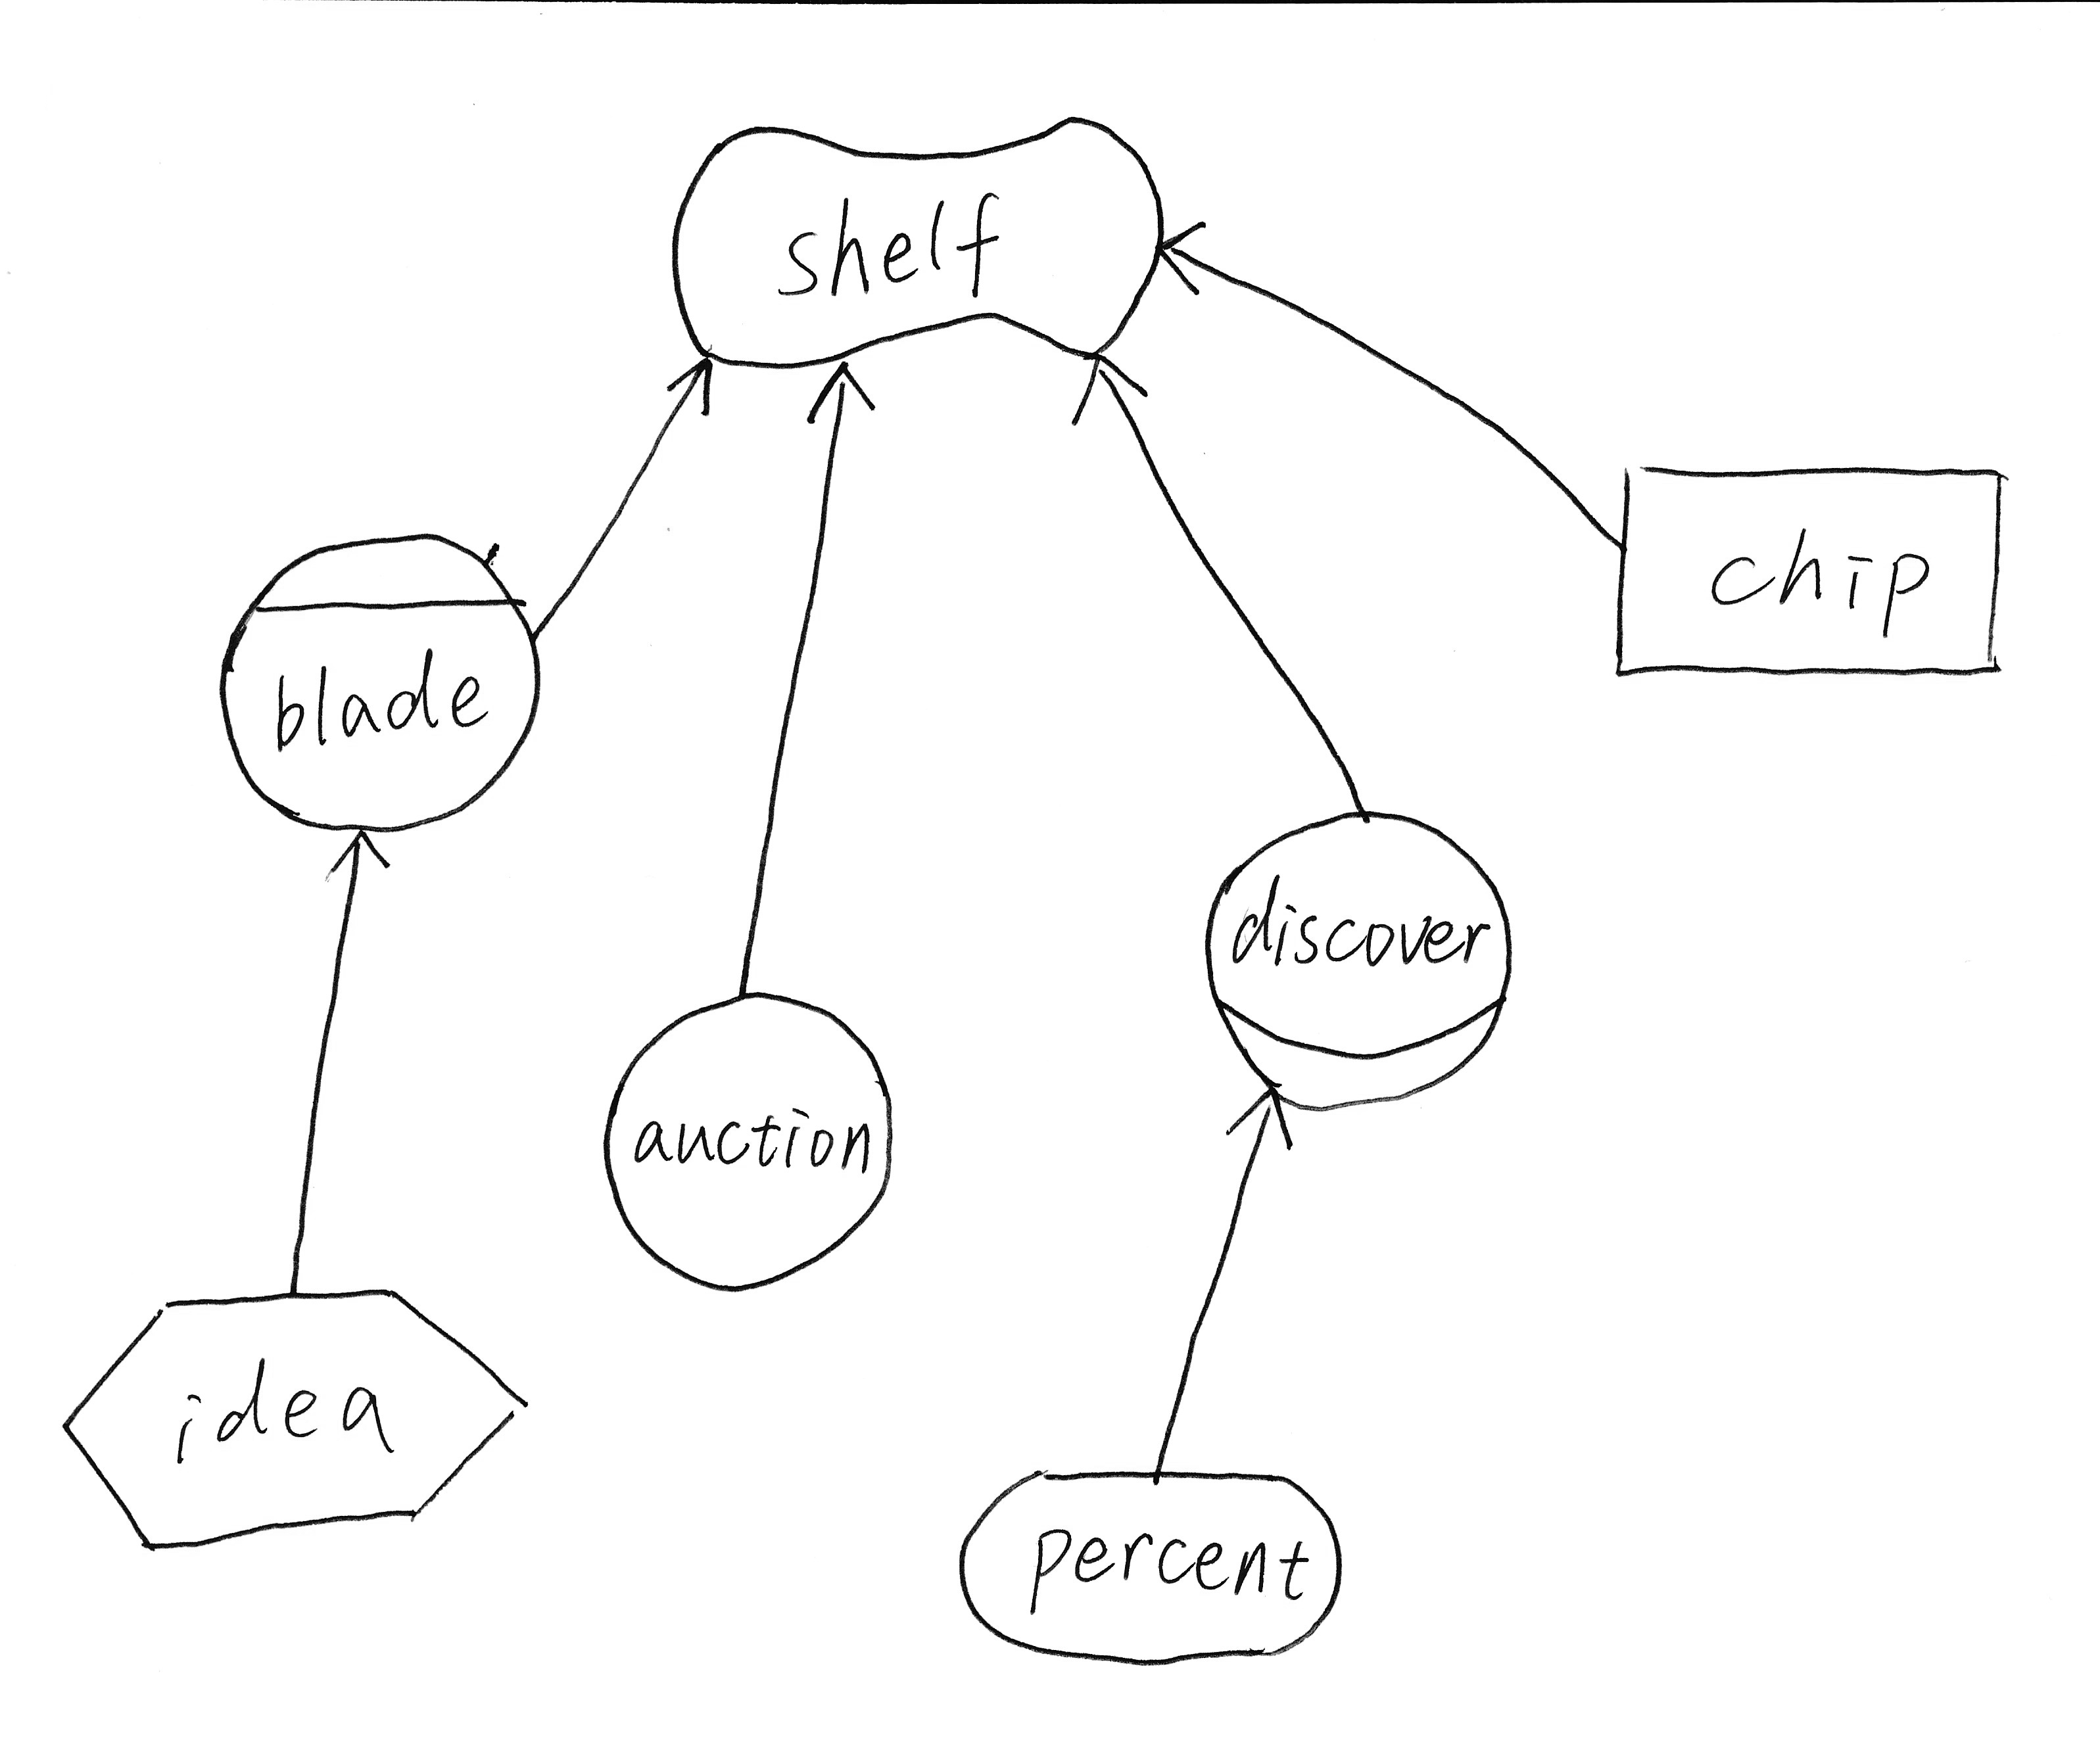actor: (588, 972, 912, 1310)
agent: (195, 509, 562, 851)
arrow: (1219, 1064, 1326, 1170), (1062, 333, 1170, 433), (1146, 204, 1233, 307), (305, 809, 403, 898), (649, 326, 734, 427), (788, 349, 888, 434)
goal: (937, 1439, 1362, 1678)
quality: (645, 99, 1191, 389)
resource: (1592, 443, 2034, 703)
role: (1184, 790, 1538, 1136)
task: (44, 1265, 558, 1570)
